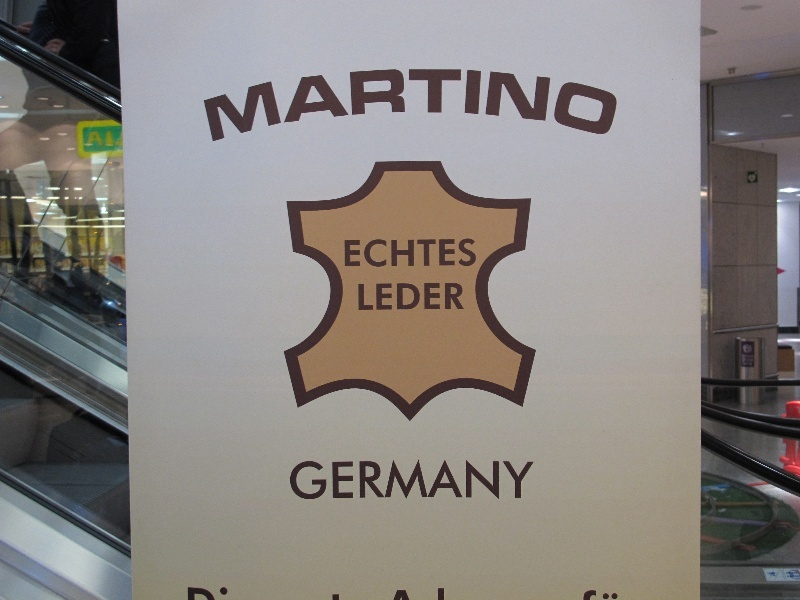text: (209, 66, 224, 143), (225, 66, 240, 143), (241, 66, 256, 143), (257, 66, 272, 143), (273, 66, 288, 143), (289, 66, 304, 143), (305, 66, 320, 143), (321, 66, 336, 143), (337, 66, 352, 143), (353, 66, 368, 143), (369, 66, 384, 143), (385, 66, 400, 143), (401, 66, 416, 143), (417, 66, 432, 143), (433, 66, 448, 143), (449, 66, 464, 143), (465, 66, 480, 143), (481, 66, 496, 143), (497, 66, 512, 143), (513, 66, 528, 143), (529, 66, 544, 143), (545, 66, 560, 143), (561, 66, 576, 143), (577, 66, 592, 143), (593, 66, 608, 143), (609, 66, 624, 143), (197, 66, 208, 143), (289, 462, 304, 502), (305, 462, 320, 502), (321, 462, 336, 502), (337, 462, 352, 502), (353, 462, 368, 502), (369, 462, 384, 502), (385, 462, 400, 502), (401, 462, 416, 502), (417, 462, 432, 502), (433, 462, 448, 502), (449, 462, 464, 502), (465, 462, 480, 502), (481, 462, 496, 502), (497, 462, 512, 502), (513, 462, 528, 502), (353, 238, 368, 268), (369, 238, 384, 268), (385, 238, 400, 268), (401, 238, 416, 268), (417, 238, 432, 268), (433, 238, 448, 268), (449, 238, 464, 268), (369, 283, 384, 311), (385, 283, 400, 311), (401, 283, 416, 311), (417, 283, 432, 311), (433, 283, 448, 311), (449, 283, 464, 311), (465, 238, 476, 268), (97, 129, 112, 148), (358, 283, 368, 311), (344, 238, 352, 268), (529, 462, 535, 502), (193, 586, 208, 600), (209, 586, 224, 600), (401, 586, 416, 600), (417, 586, 432, 600), (113, 129, 123, 148), (433, 586, 446, 600), (593, 588, 608, 600), (90, 129, 96, 148), (583, 588, 592, 600), (609, 588, 618, 600), (625, 66, 626, 143), (187, 586, 192, 600), (395, 586, 400, 600), (331, 593, 336, 600), (225, 586, 227, 600), (337, 593, 341, 600)
